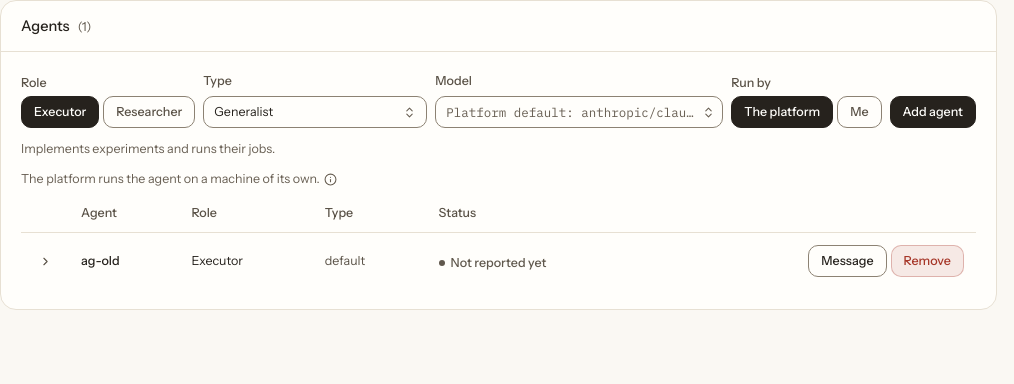
Scenario: adding agents › asks the platform to run them by default and shows no token
Check: the button "Executor" is shown, box [21,96,99,128]
Click the button "Add agent". click: (933, 112)
box: [890,96,976,128]
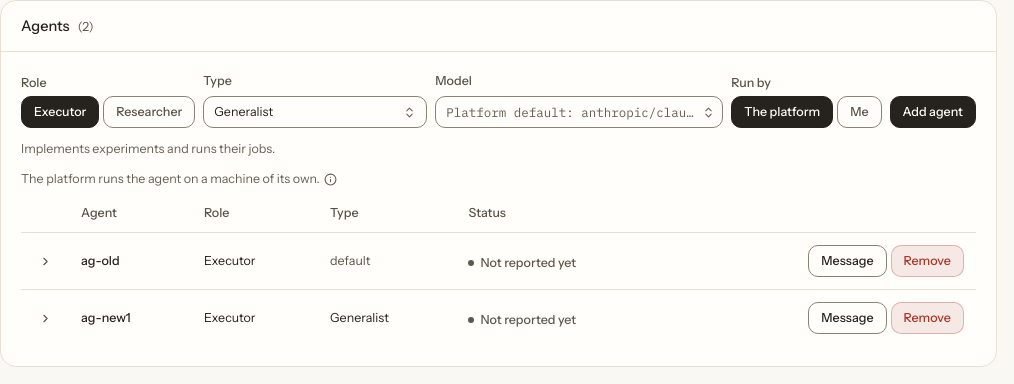
Check: the cell "ag-new1" is shown, box [69,290,192,346]
